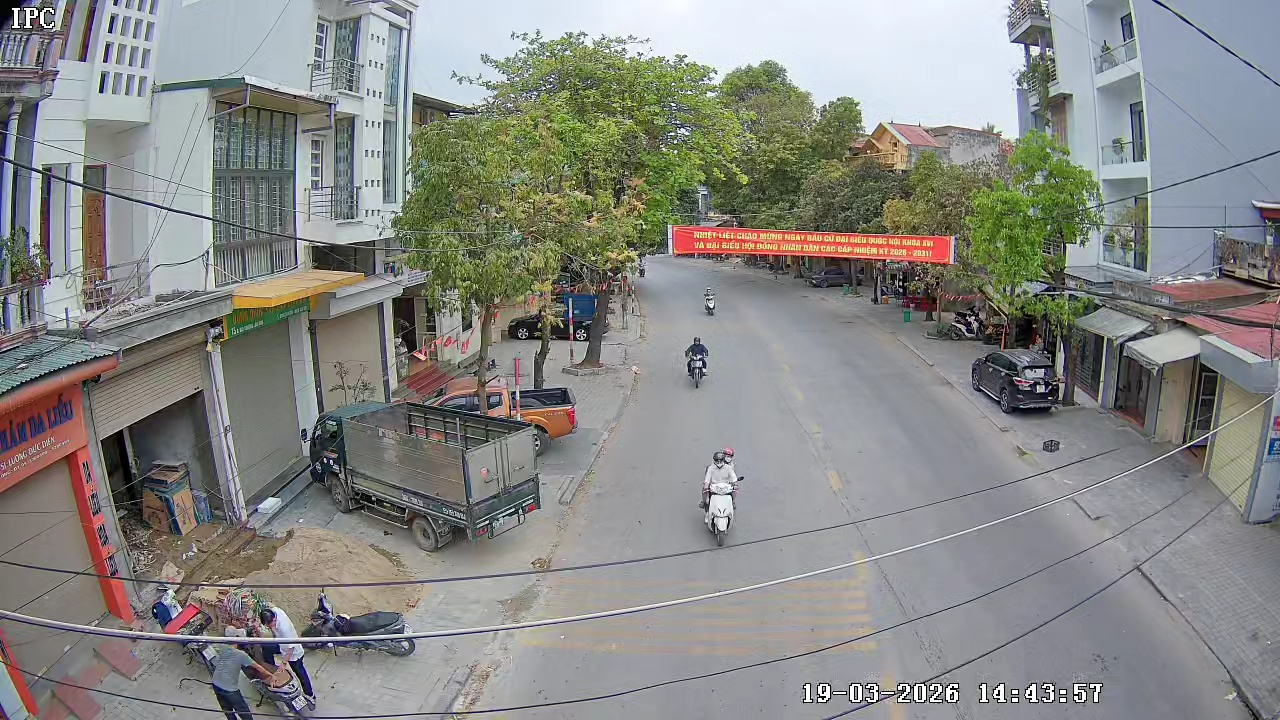car: (511, 384, 578, 449)
motorbike: (697, 447, 746, 546), (684, 335, 709, 389), (702, 289, 717, 316), (636, 309, 649, 339)
truck: (299, 384, 544, 550)
